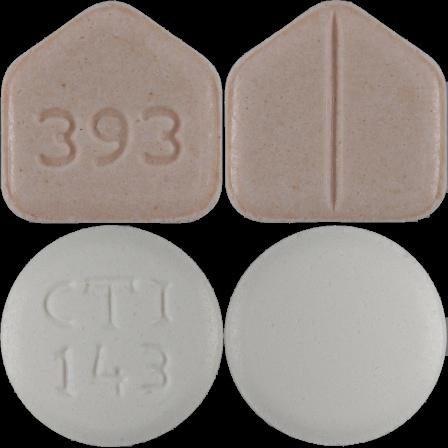61919-940: (0, 0, 224, 224)
